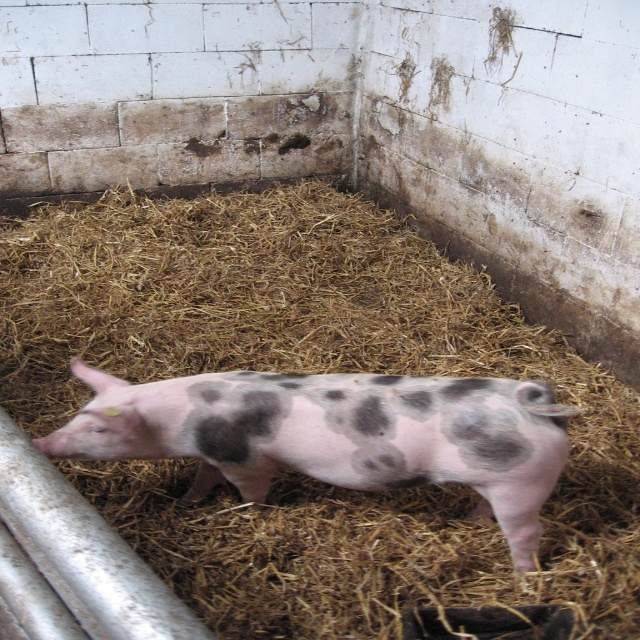Pig: (34, 356, 583, 591)
